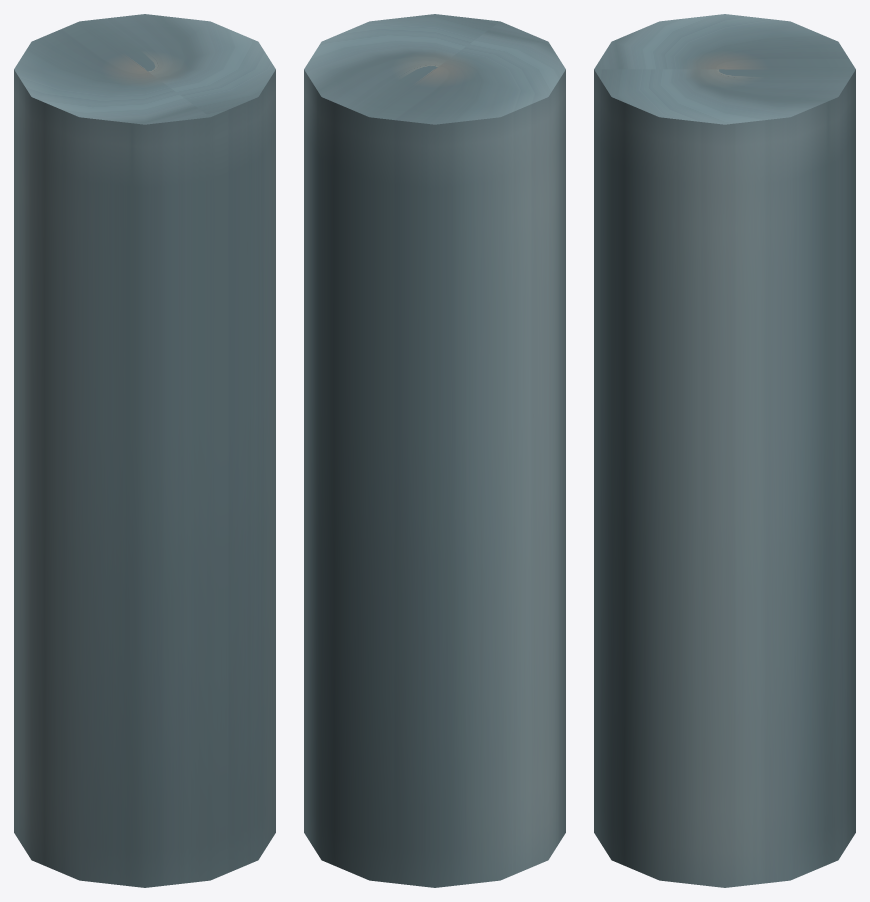
The model's file is set_round_pillar_01_col.fbx.
3 renders of one model, left to right at view 1: azimuth 30°, elevation 25°; view 2: azimuth 150°, elevation 25°; view 3: azimuth 270°, elevation 25°, orthographic.
Visible parts, largest first — view 1: set_round_pillar_01_col; view 2: set_round_pillar_01_col; view 3: set_round_pillar_01_col.
Part boxes in pixels (x1,y1,x2,y2): set_round_pillar_01_col: (14,14,275,887); set_round_pillar_01_col: (304,14,565,887); set_round_pillar_01_col: (594,14,855,887).
Bounding box in the file's own units: 91.95 × 296 × 91.95.
